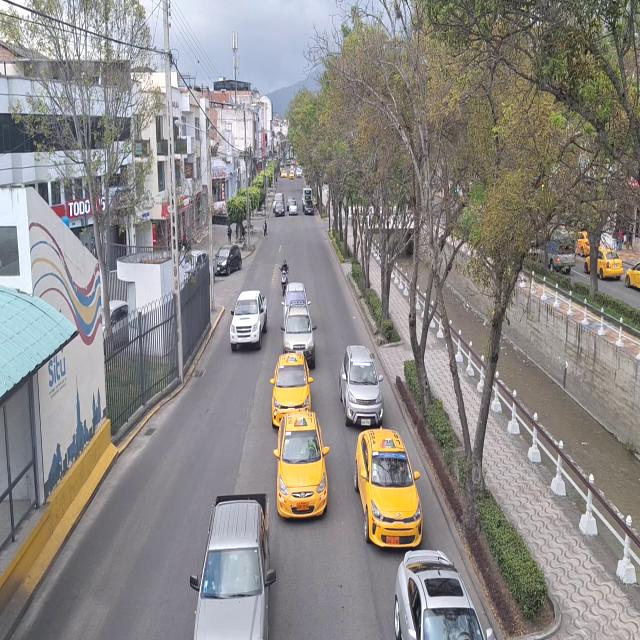CMT: (192, 487, 270, 640), (230, 288, 267, 355)
MOTORCYCLE: (280, 271, 288, 297)
